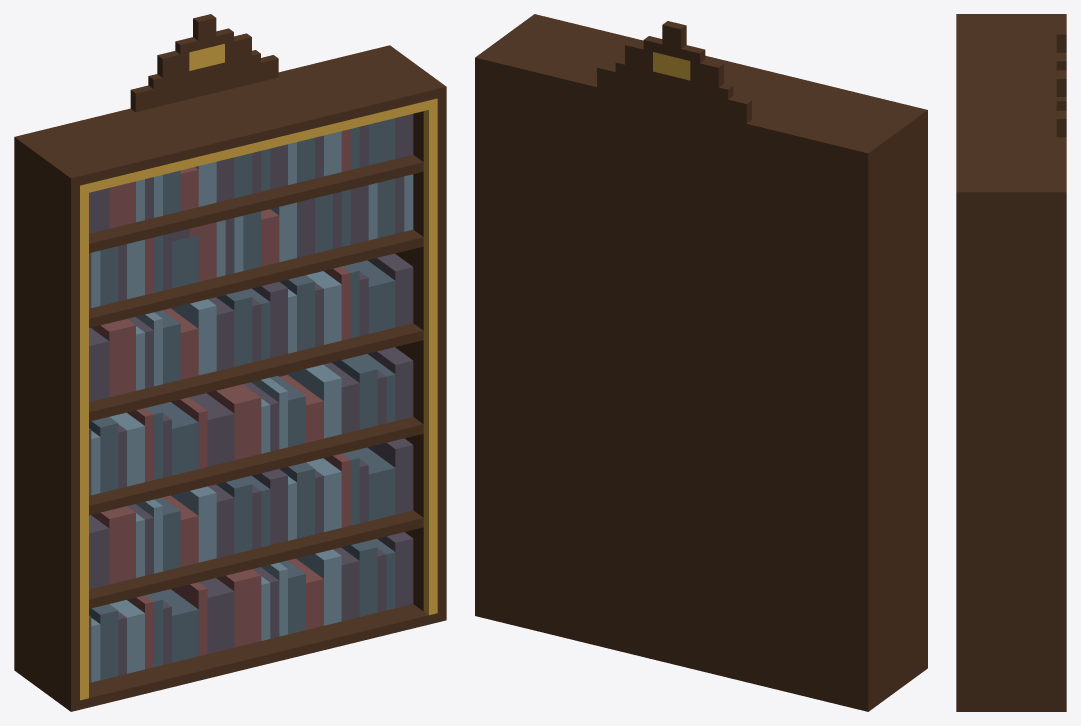
File: ggj bookshelf.obj
3 renders of one model, left to right at view 1: azimuth 30°, elevation 25°; view 2: azimuth 150°, elevation 25°; view 3: azimuth 270°, elevation 25°, orthographic. The views are drawn at different scales.
Size of the model in its own units: 4.2 by 6.5 by 1.1.
1 material, 1 textured.
